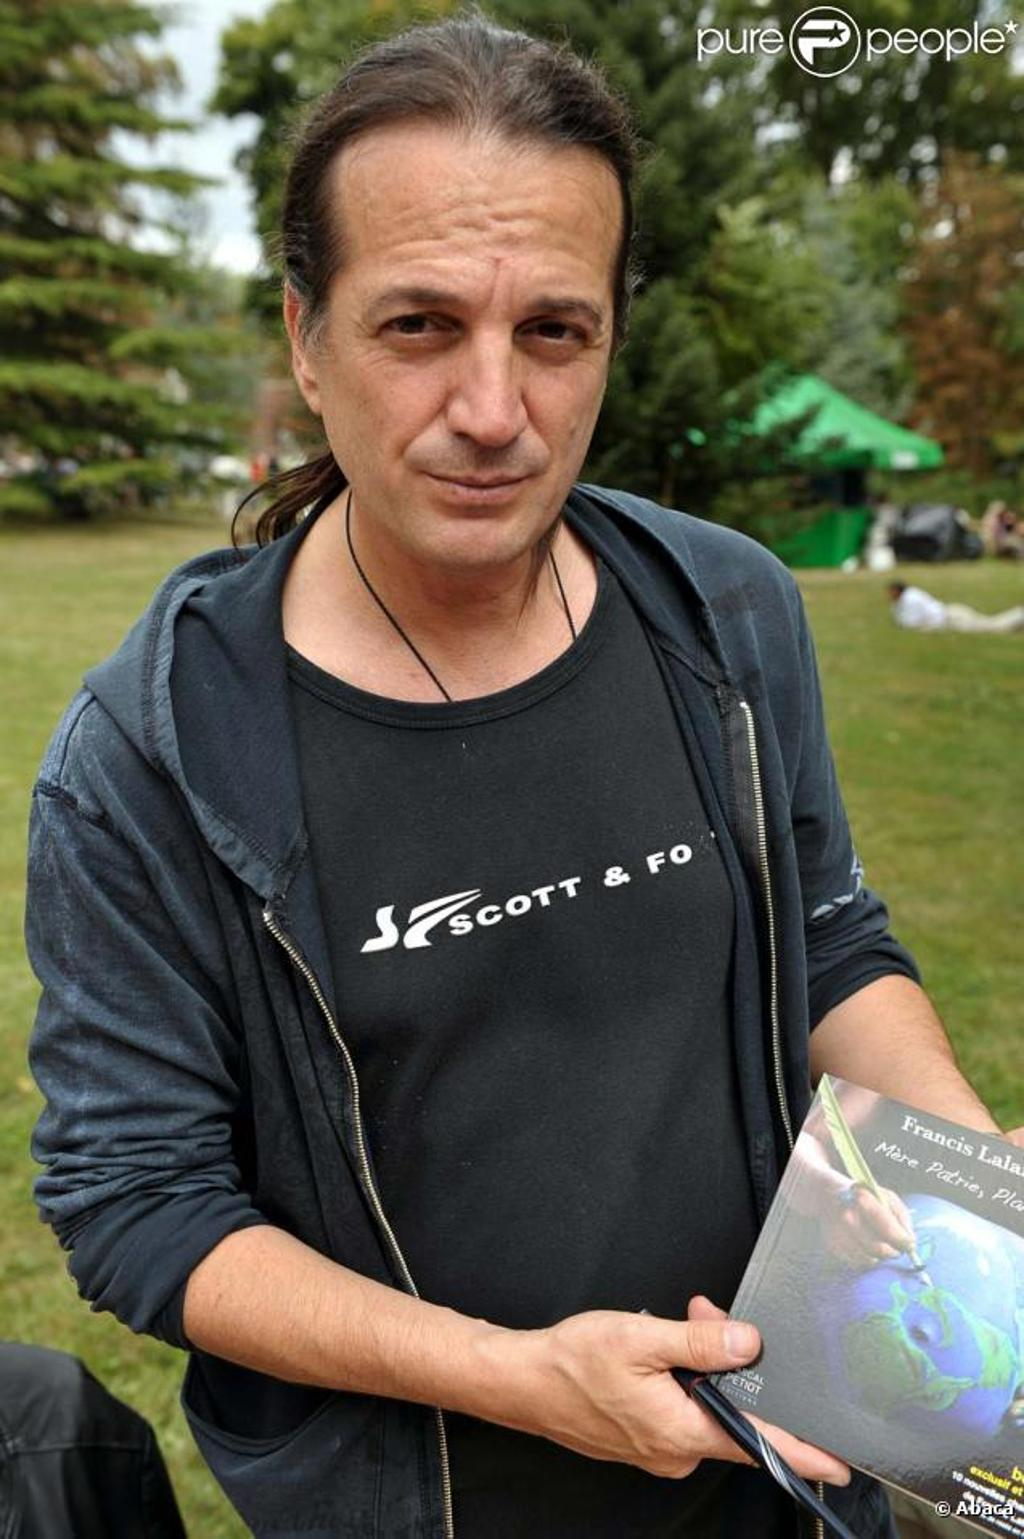face: (337, 121, 619, 547)
